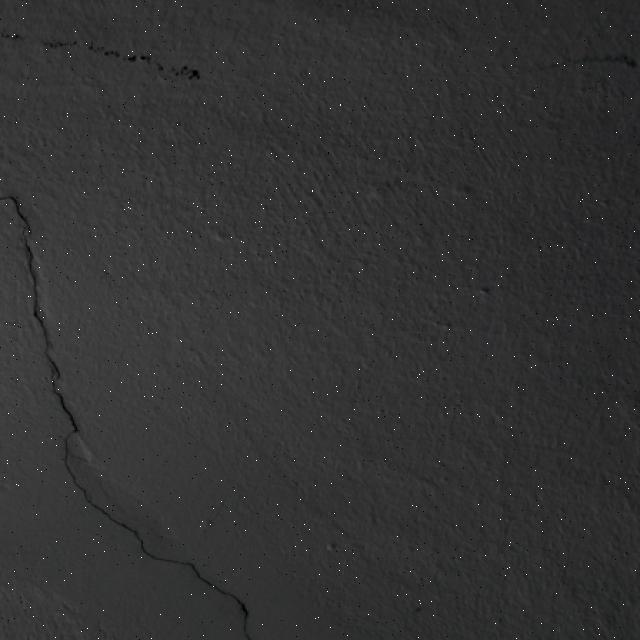moderate crack: (3, 20, 196, 83)
severe crack: (6, 191, 259, 634), (146, 543, 248, 632)
